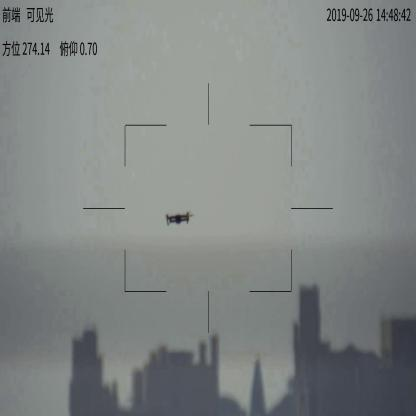uav: (160, 209, 194, 227)
